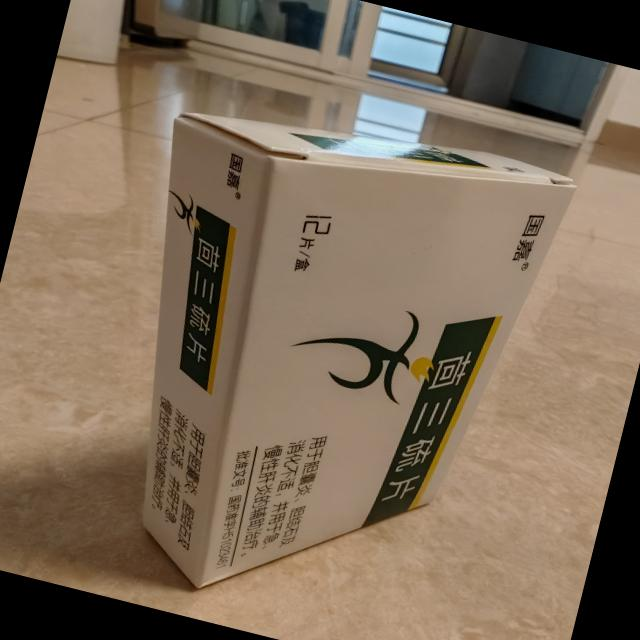box: (58, 69, 589, 640)
